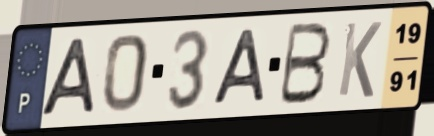0: (100, 32, 152, 116)
3: (165, 26, 214, 114)
A: (35, 36, 99, 119), (210, 26, 269, 109)
B: (275, 21, 334, 107)
K: (335, 20, 384, 101)
